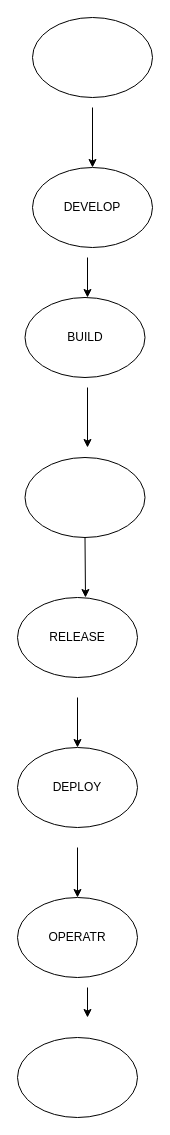
Image size: 170x1135. Some labels were removed from this diagram. Each missing label, with the box of its shape:
MONITOR: (16, 1036, 138, 1118)
PLAN: (32, 16, 152, 98)
TEXT: (24, 456, 145, 538)
